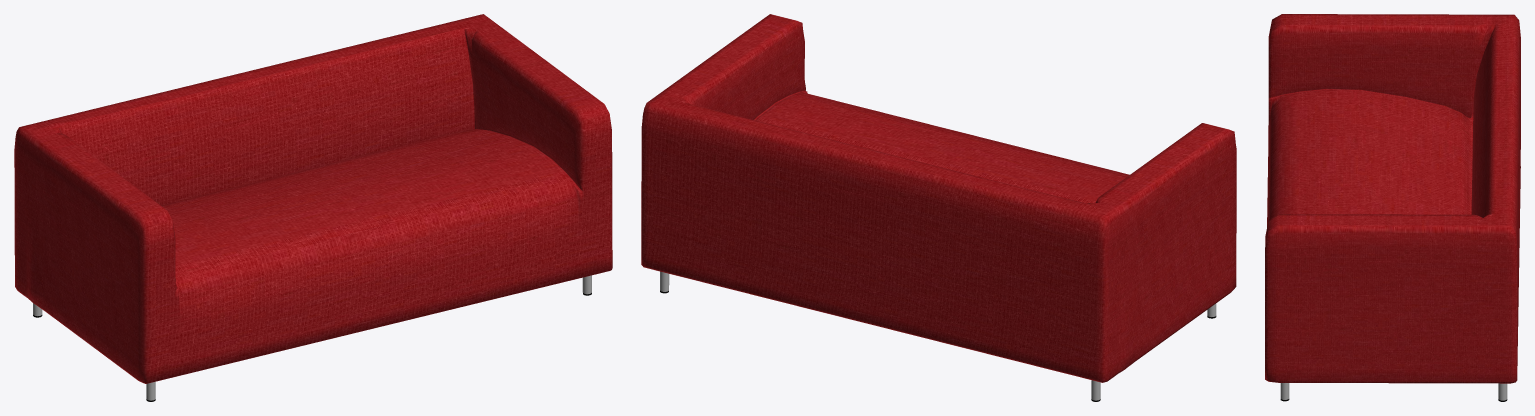
File: IKEA-Kipplan_2_Seat_Sofa-2-Seat-Sofa-3d.FBX
3 renders of one model, left to right at view 1: azimuth 30°, elevation 25°; view 2: azimuth 150°, elevation 25°; view 3: azimuth 270°, elevation 25°, orthographic. The views are drawn at different scales.
Visible parts, largest first — view 1: Cylinder03; view 2: Cylinder03; view 3: Cylinder03.
Part boxes in pixels (left/top/right/bottom): Cylinder03: left=14, top=14, right=612, bottom=401; Cylinder03: left=641, top=14, right=1236, bottom=401; Cylinder03: left=1265, top=14, right=1520, bottom=401.
Size of the model in its own units: 1.62 by 0.8033 by 0.6282.
Materials: 3 (1 with a texture image).
